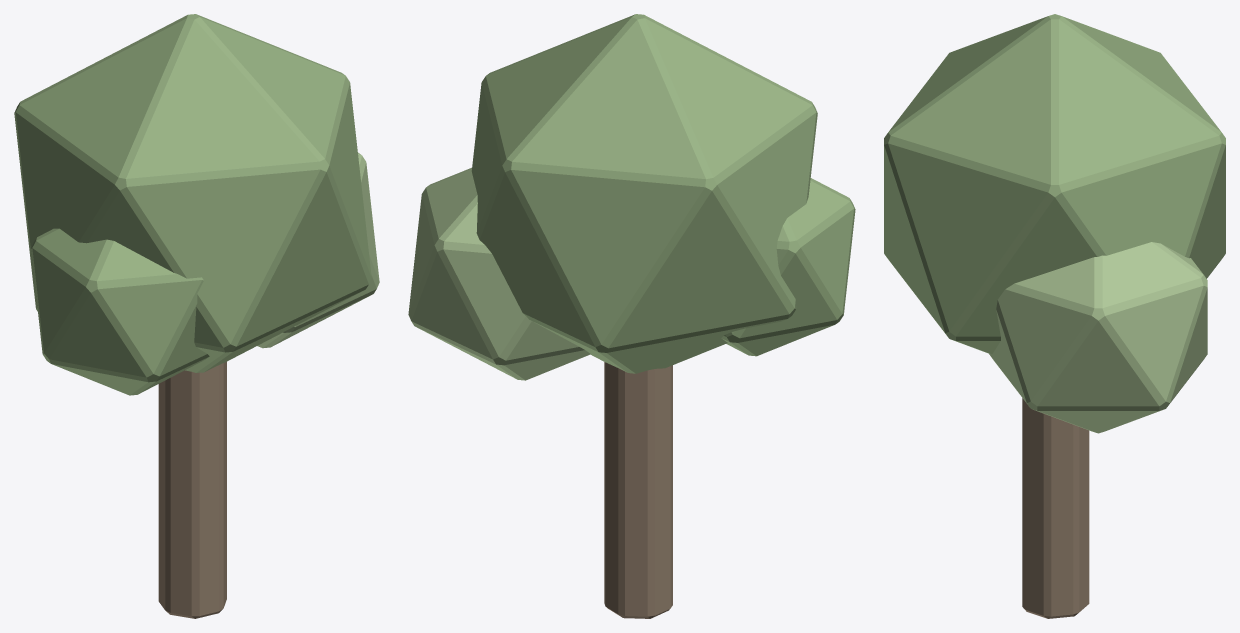
File: tree_broadleaf.glb
3 views of the same model, side by side, from view 1: azimuth 30°, elevation 25°; view 2: azimuth 150°, elevation 25°; view 3: azimuth 270°, elevation 25° (orthographic).
Parts seen in each view (by area): view 1: crown1, crown3, trunk, crown2; view 2: crown1, crown2, trunk, crown3; view 3: crown1, crown2, trunk.
Part boxes in pixels (bbox=[...]): crown1: bbox=[14, 14, 371, 372]; crown3: bbox=[31, 228, 209, 395]; trunk: bbox=[158, 362, 226, 618]; crown2: bbox=[257, 152, 379, 348]; crown1: bbox=[471, 14, 817, 373]; crown2: bbox=[408, 167, 590, 380]; trunk: bbox=[604, 362, 672, 618]; crown3: bbox=[721, 178, 855, 356]; crown1: bbox=[884, 14, 1225, 354]; crown2: bbox=[989, 242, 1207, 433]; trunk: bbox=[1022, 398, 1089, 618].
Size of the model in its own units: 1.18 by 1.8 by 0.9442.
